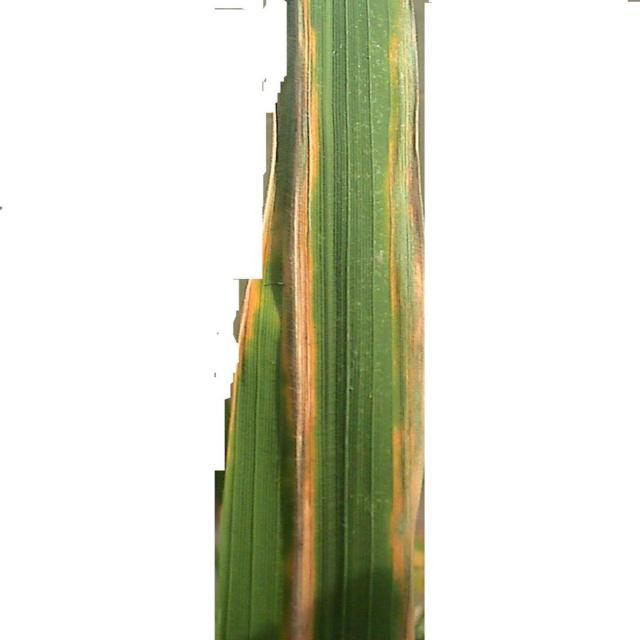leaf blight: (198, 1, 331, 637), (371, 2, 438, 640)
